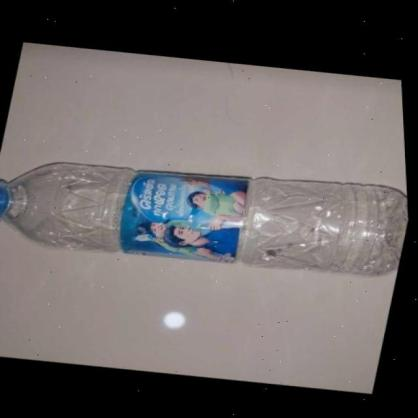bottle: (0, 162, 404, 277)
label: (121, 170, 252, 268)
